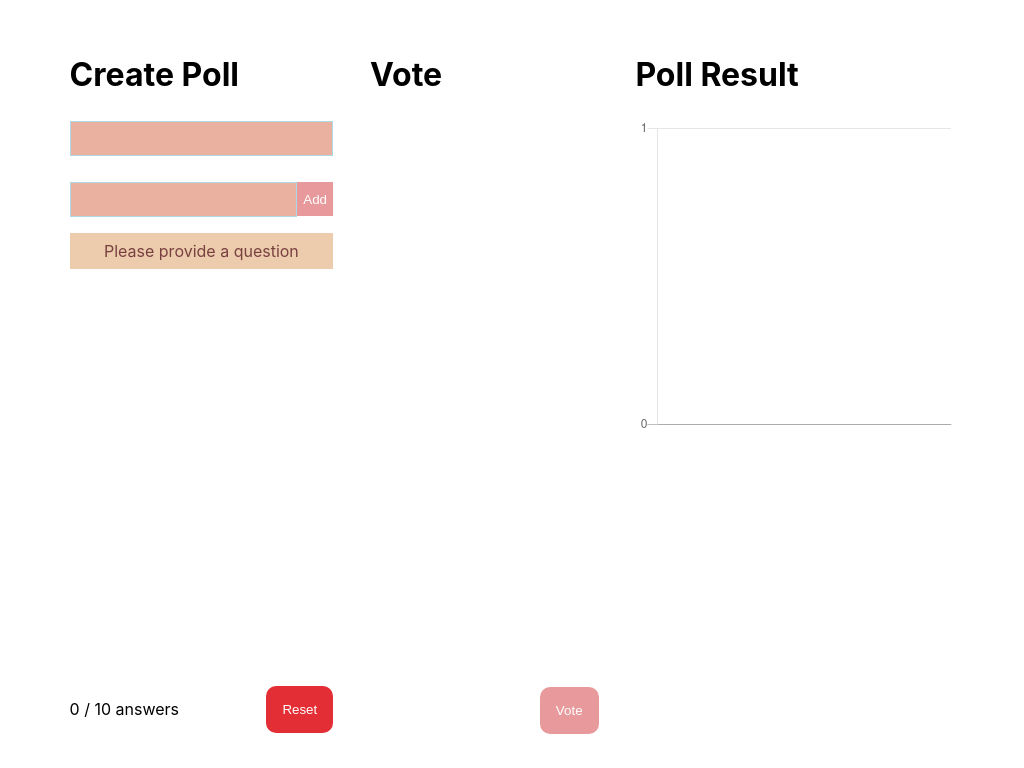
Poll app › poll question and answer form test › should reset the whole application after clicking the reset button
Type "Test question" into the 1st field at [202, 139], box [70,121,334,156]
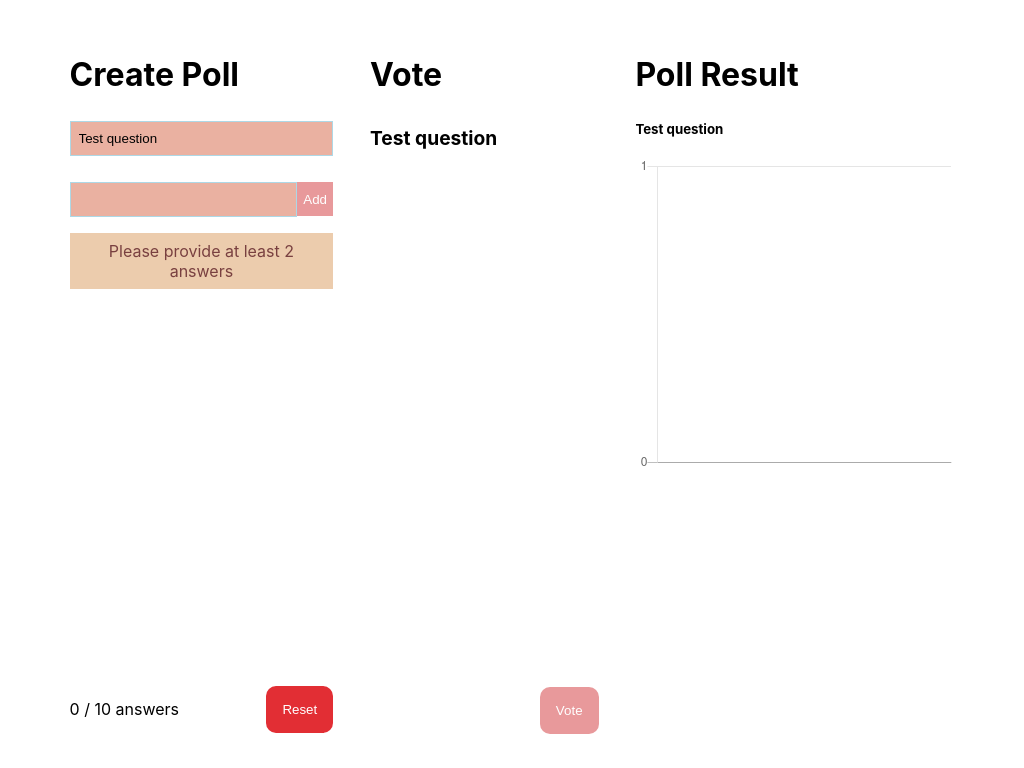
Type "Test answer 1" into the 2nd field at [184, 200], box [70,182,298,217]
Click the button "Add" at [315, 199], box [297,182,333,216]
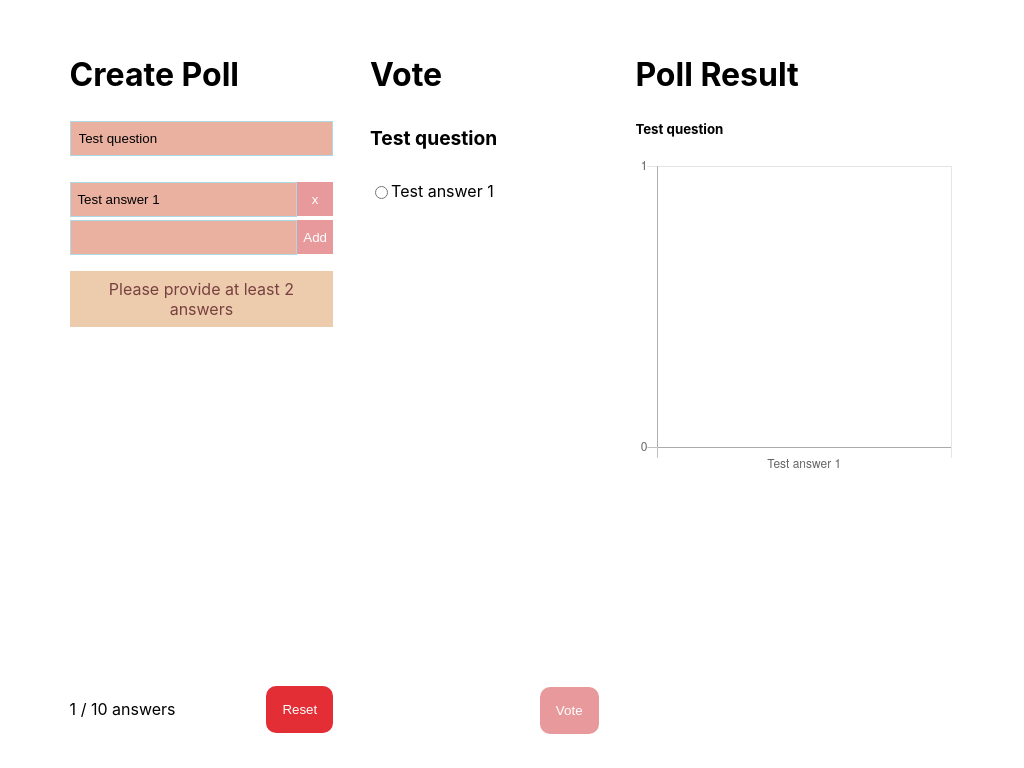
Type "Test answer 2" into the 3rd field at [184, 238], box [70,220,298,255]
Click the button "Add" at [315, 237], box [297,220,333,254]
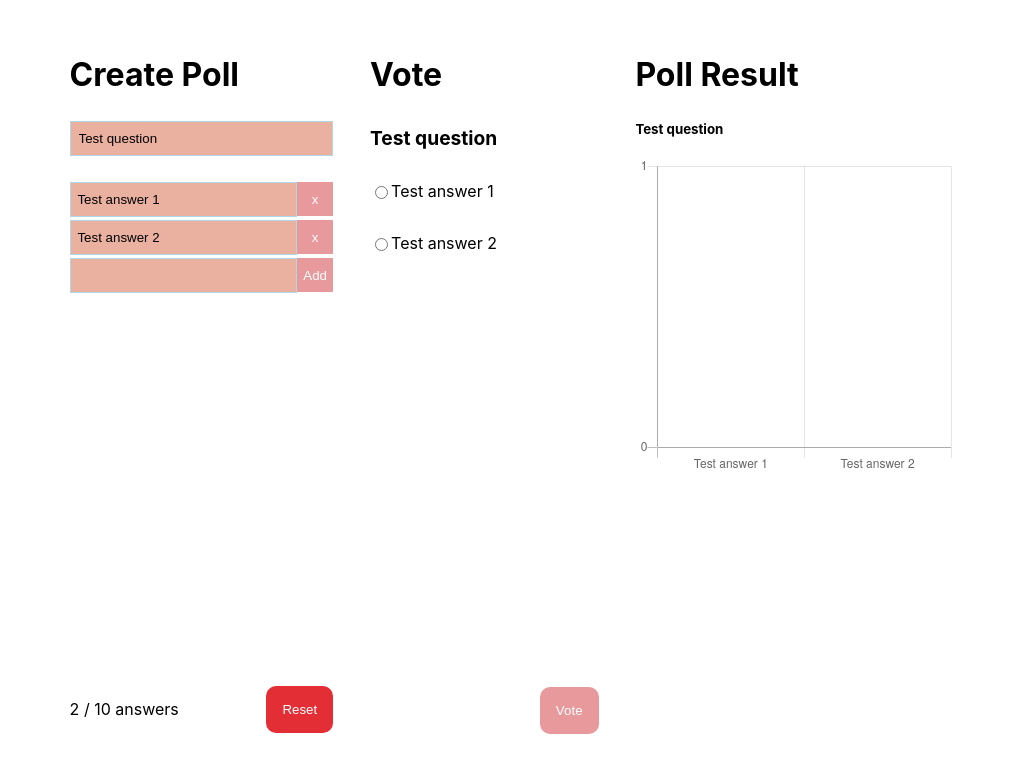
Click the radio button next to "Test answer 1" at [382, 193], box [375,186,388,199]
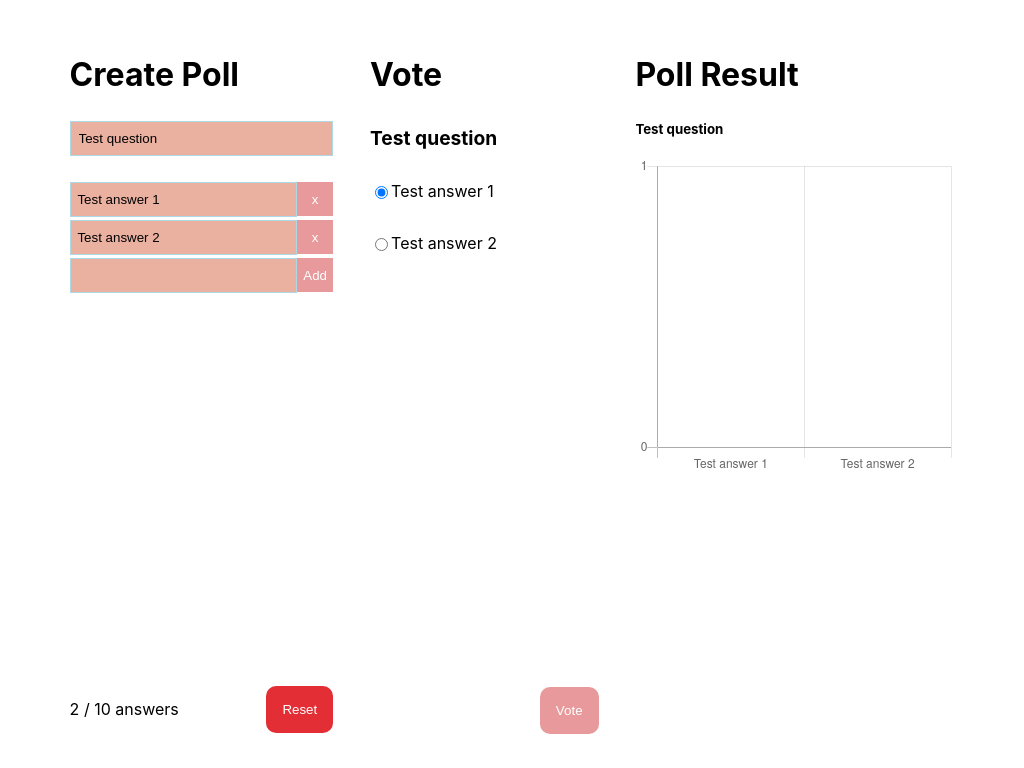
Click the button "Vote" at [570, 711], box [540,687,599,734]
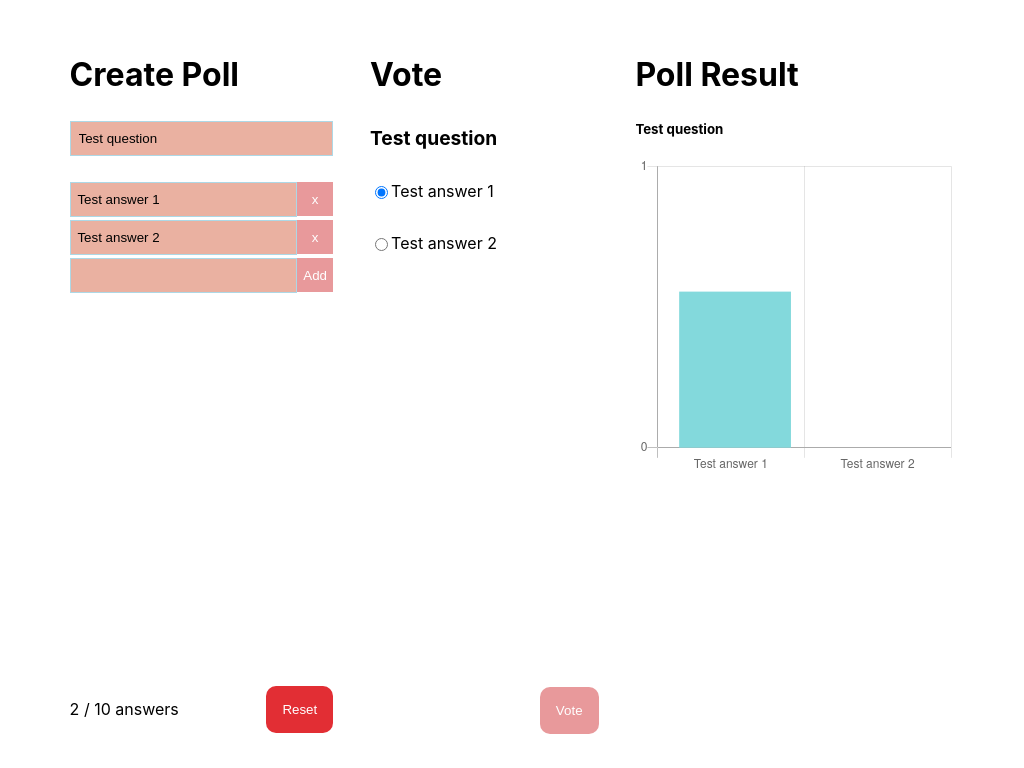
Click the button "Reset" at [300, 710], box [266,686,333,733]
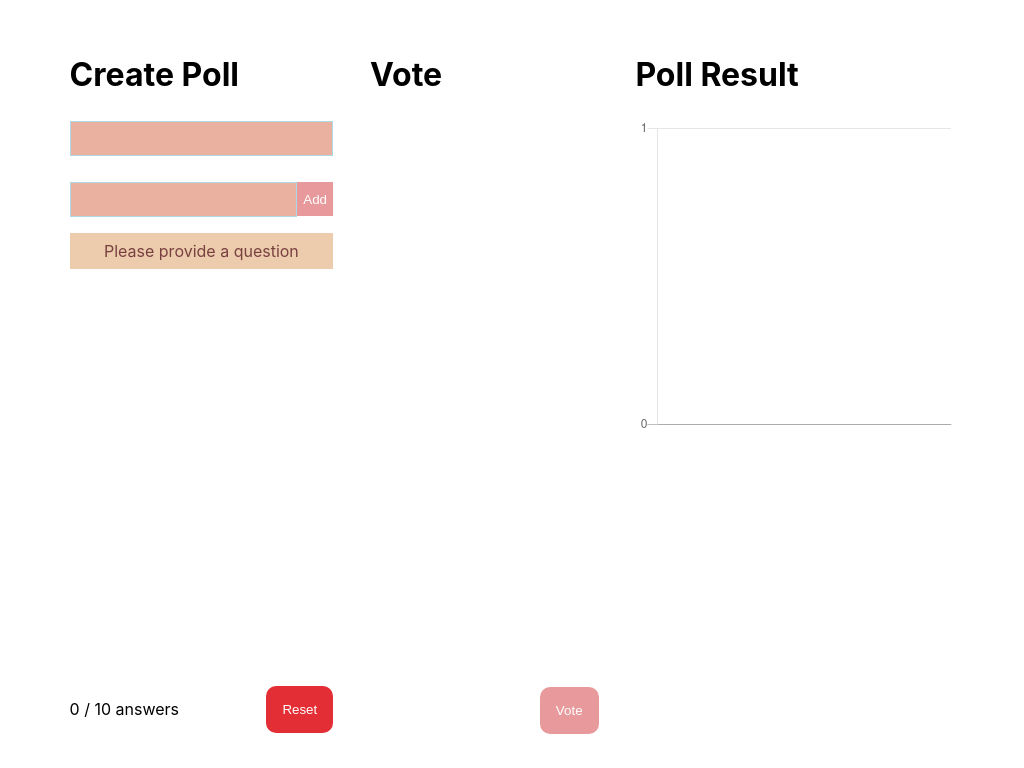
Result: the 2nd field is disabled at [70,182,298,217]
